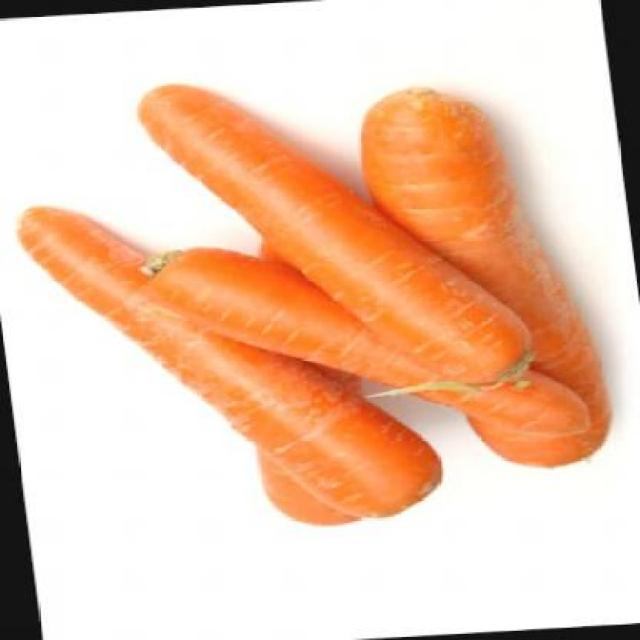carrot: (12, 184, 440, 536), (130, 65, 535, 410), (131, 225, 591, 460), (347, 76, 616, 476), (225, 234, 377, 528)
